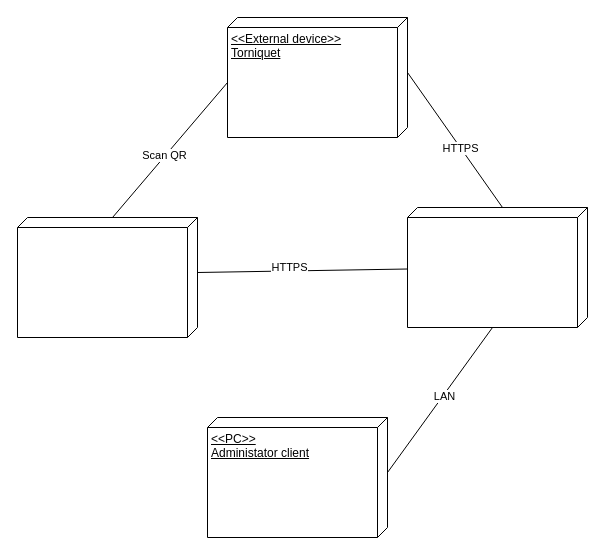
Some shapes in this 605 by 555 pixel diagram are drawn without their labels. The shapes that lost their labels are listed below. From the top down, each one's centre as x and y in pixels, then its label:
the point at 107,277: <<Client application>> Web/mobile client
the point at 497,267: <<Backend server>> Application cloud server
